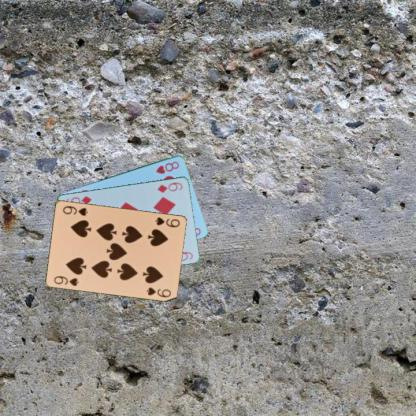6d: (155, 180, 184, 194)
8h: (153, 158, 180, 175)
9s: (152, 214, 181, 229), (51, 273, 80, 287)
